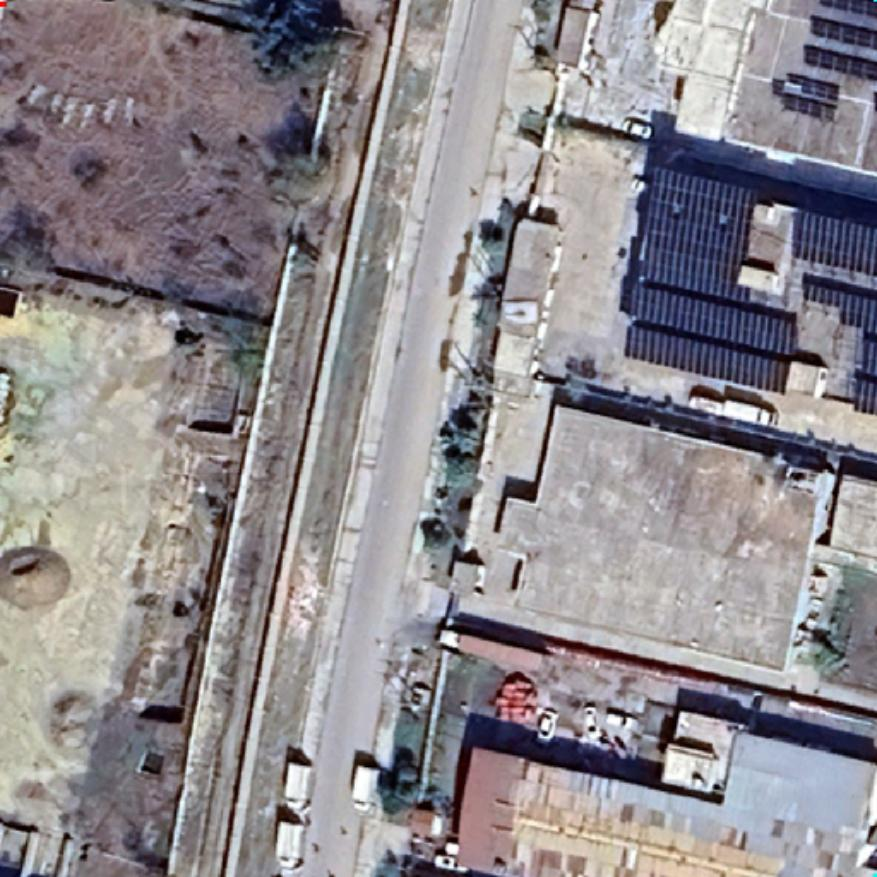Solarpanel: (620, 159, 810, 400), (786, 200, 877, 421), (798, 270, 876, 420), (788, 202, 877, 280), (768, 68, 844, 126), (800, 41, 876, 86), (817, 0, 877, 22)
